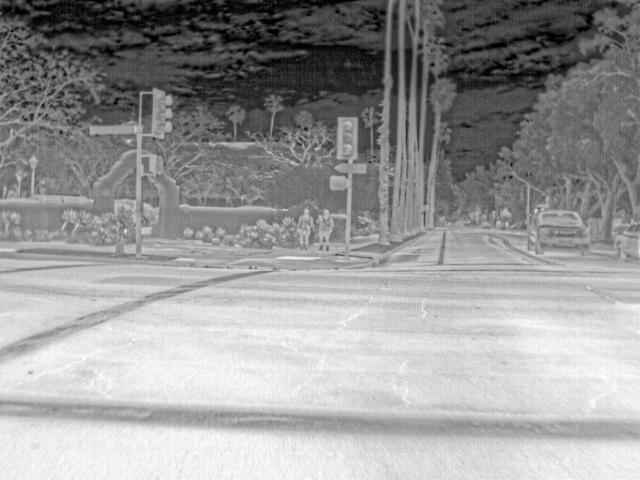car: (526, 208, 591, 255), (613, 220, 640, 262)
person: (297, 208, 316, 250), (319, 208, 336, 252)
